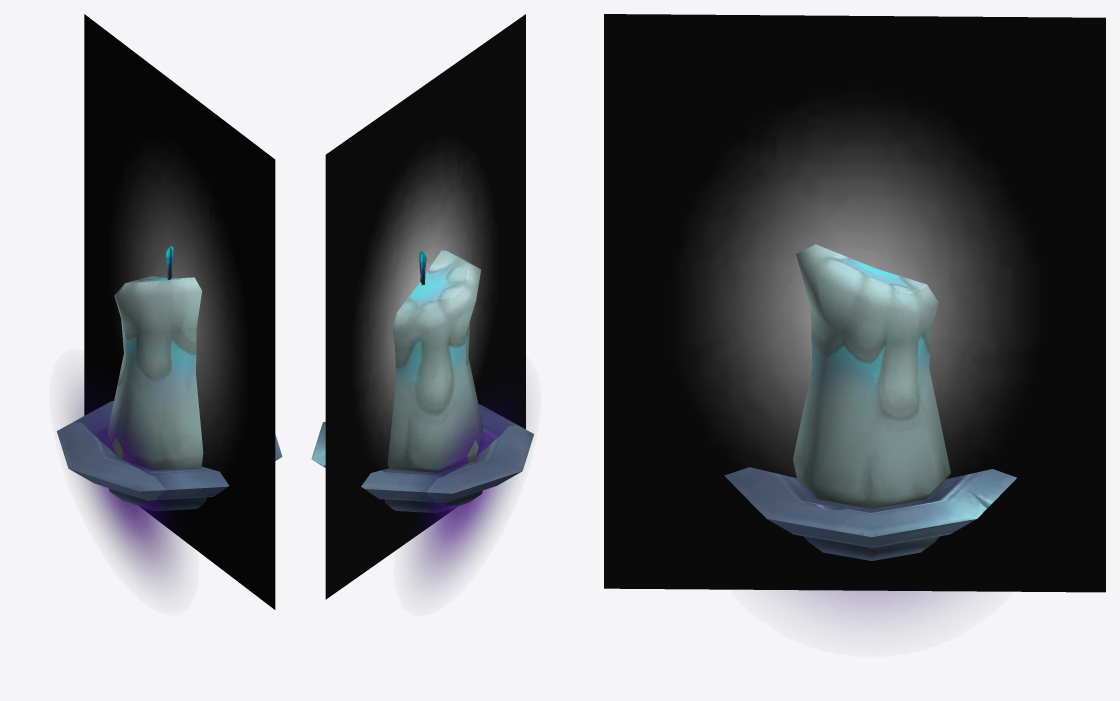
3 renders of one model, left to right at view 1: azimuth 30°, elevation 25°; view 2: azimuth 150°, elevation 25°; view 3: azimuth 270°, elevation 25°, orthographic. The views are drawn at different scales.
Size of the model in its own units: 0.347 by 0.881 by 0.5842.
3 materials, 3 textured.
